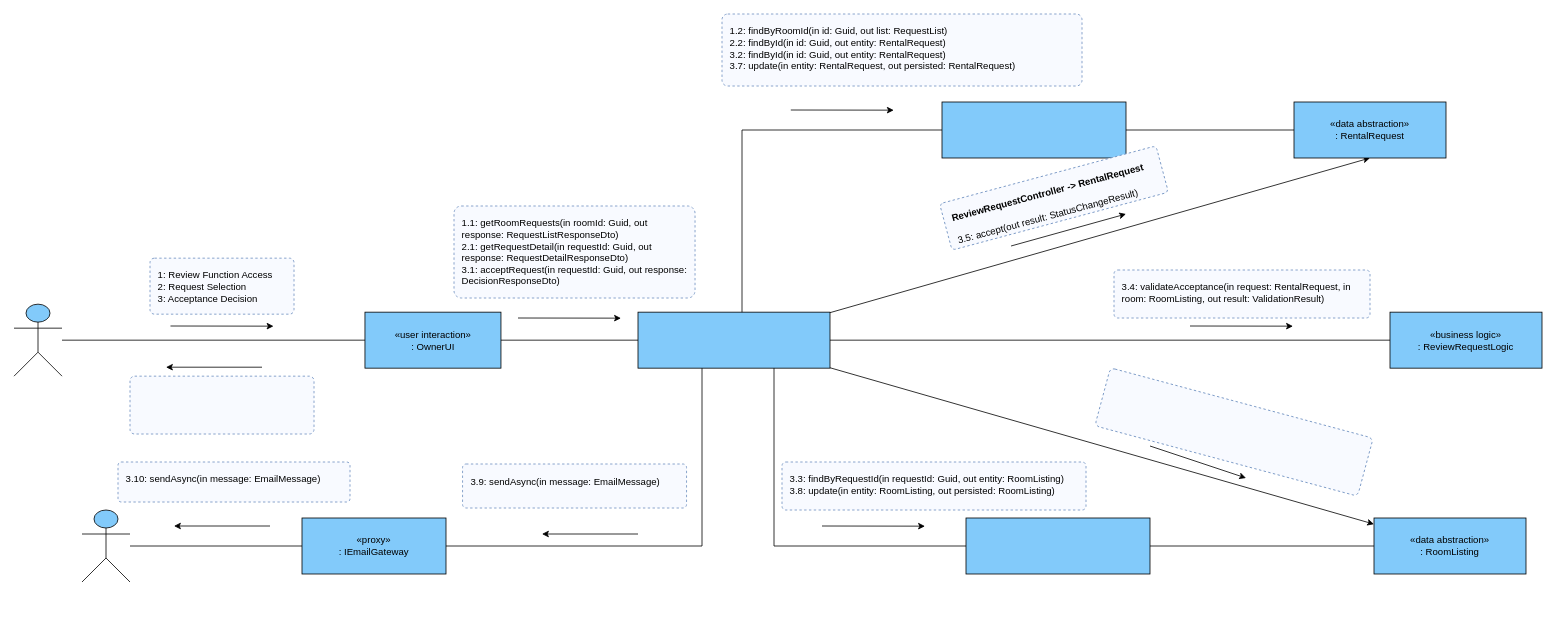
Image size: 1556x625. Some labels were removed from this diagram. The shapes that lost their labels are listed below. From the top down, each one's box as (x1, y1, x2, y2) in pixels, then its label:
(941, 101, 1126, 158): «database wrapper» : IRentalRequestRepository
(13, 303, 62, 376): Owner
(637, 311, 830, 368): «coordinator» : ReviewRequestController
(129, 375, 314, 434): 1.3: Requests Display 2.3: Request Detail Display 3.11: Decision Success Message
(1094, 367, 1373, 496): ReviewRequestController -> RoomListing 3.6: lock(out result: StatusChangeResult)
(81, 509, 130, 582): Email Provider
(965, 517, 1150, 574): «database wrapper» : IRoomListingRepository
